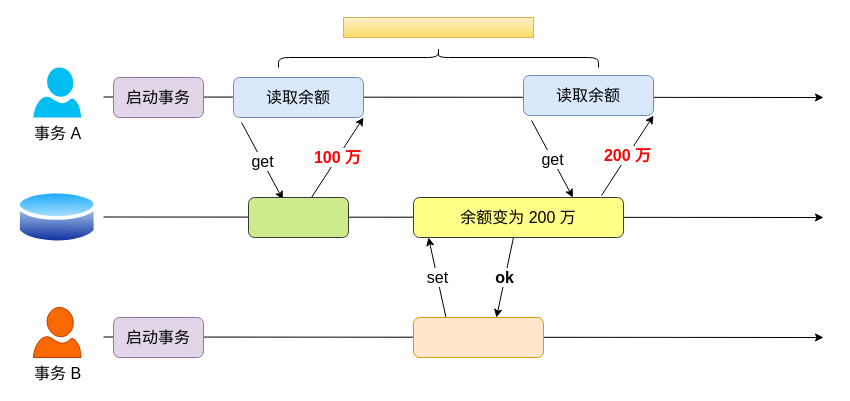
Some shapes in this 850 by 401 pixel diagram are drawn without their labels. The shapes that lost their labels are listed below. From the top down, each one's centre as x and y in pixels, then its label:
the point at 438,27: 前后读的两次数据不一样
the point at 56,217: 数据库
the point at 298,217: 余额 100 万
the point at 478,337: 更新余额
